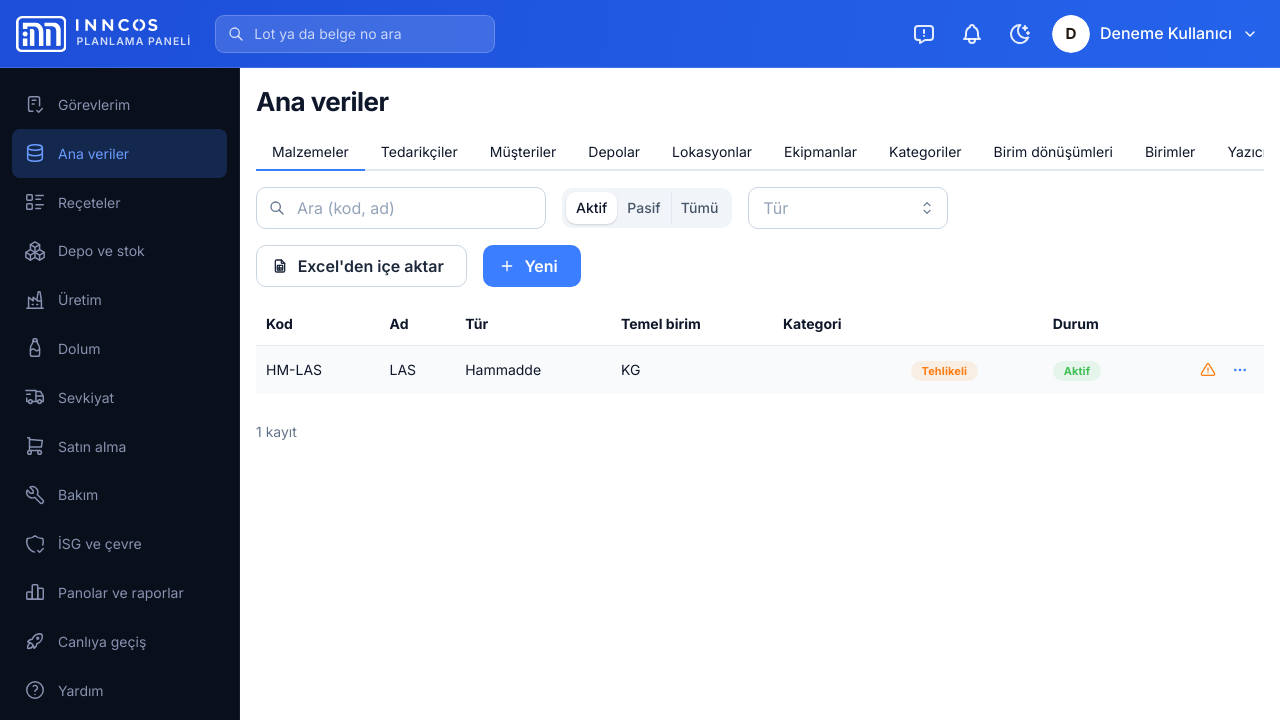
Test case: ana veriler ekranı › form alan hatalarını alanın altında gösterir
Click the button "Yeni": {"x": 532, "y": 266} [483,245,581,287]
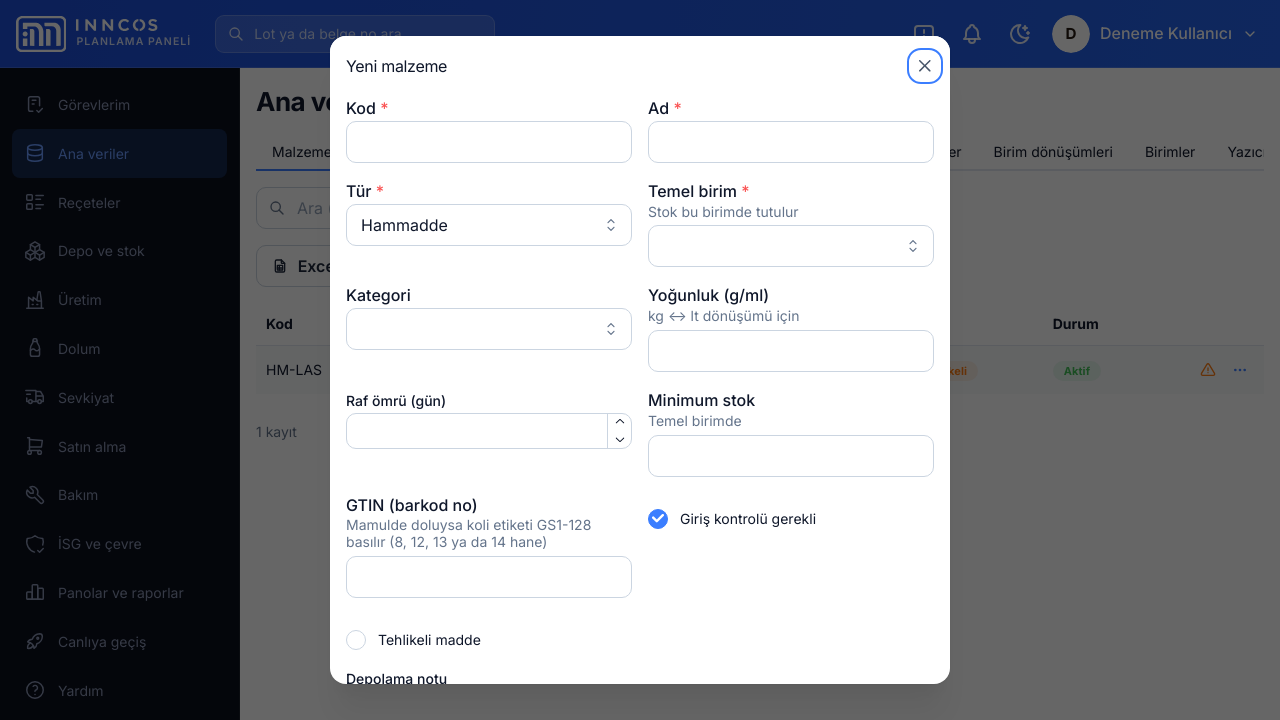
In the field labelled "Kod *": {"x": 489, "y": 142} [346,121,632,163], type "hm-las"
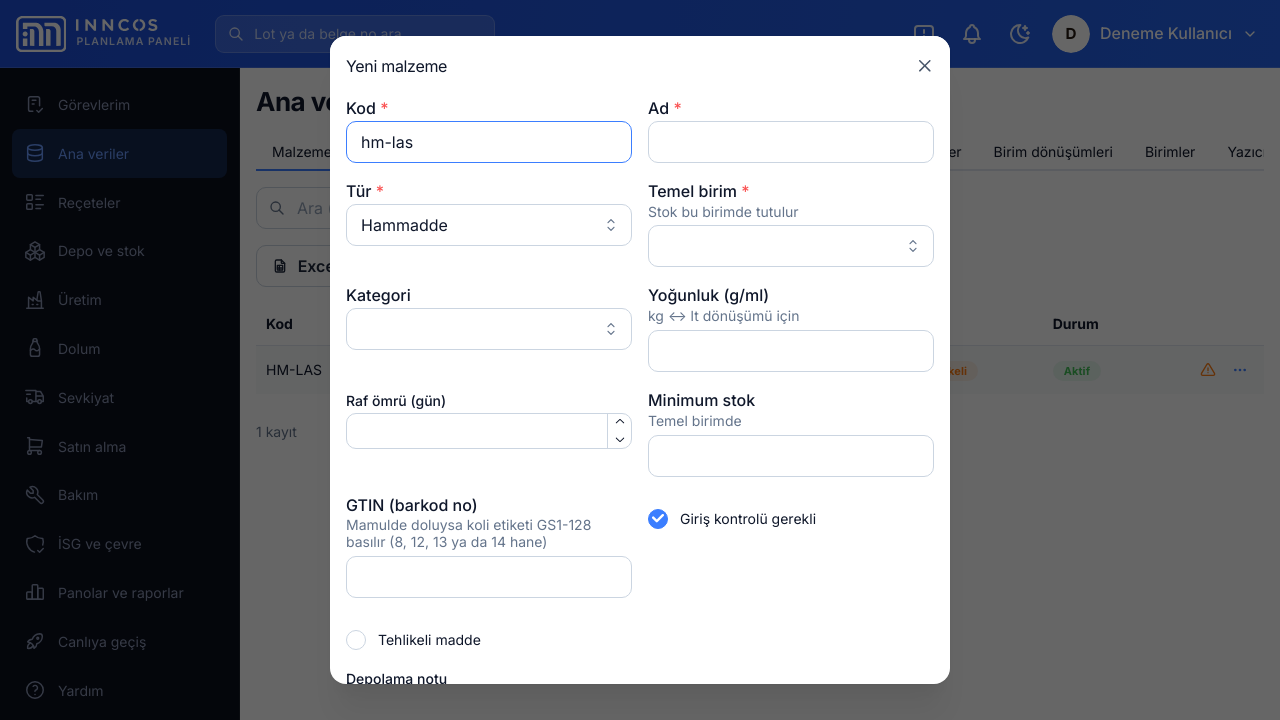
In the field labelled "Ad *": {"x": 791, "y": 142} [648,121,934,163], type "LAS"
(page scrolled)
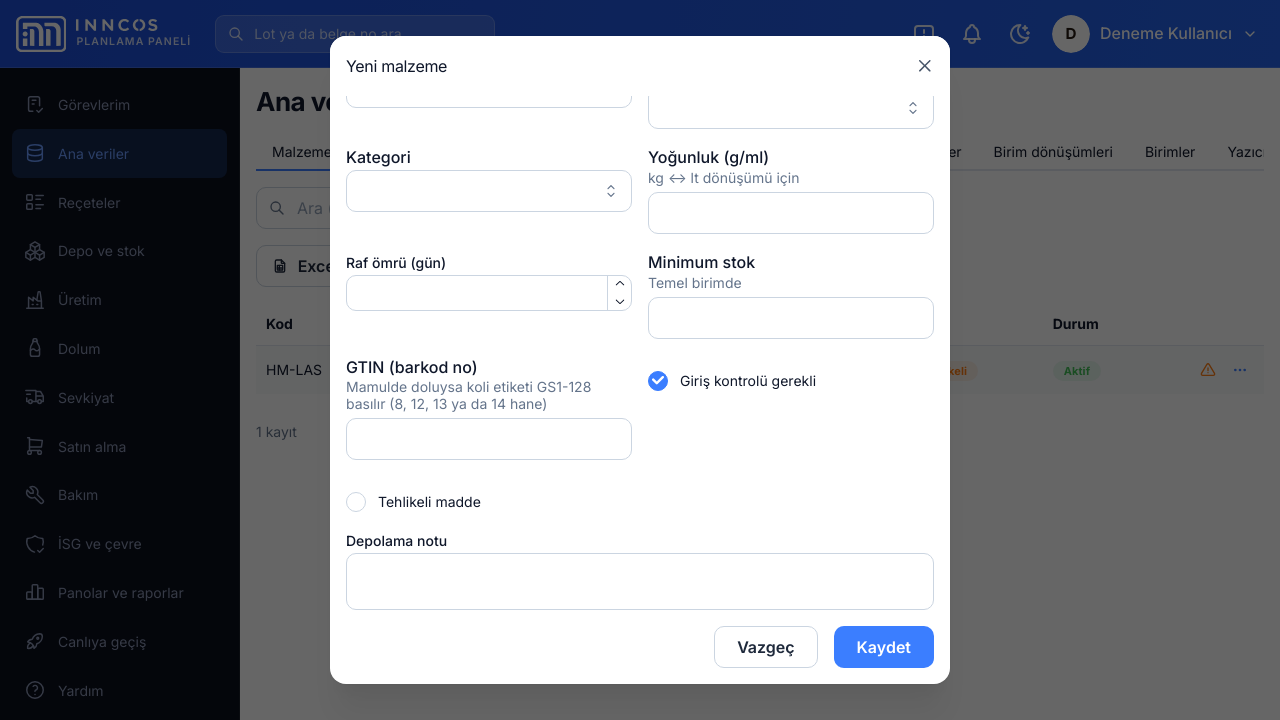
Click the button "Kaydet": {"x": 884, "y": 647} [834,626,934,668]
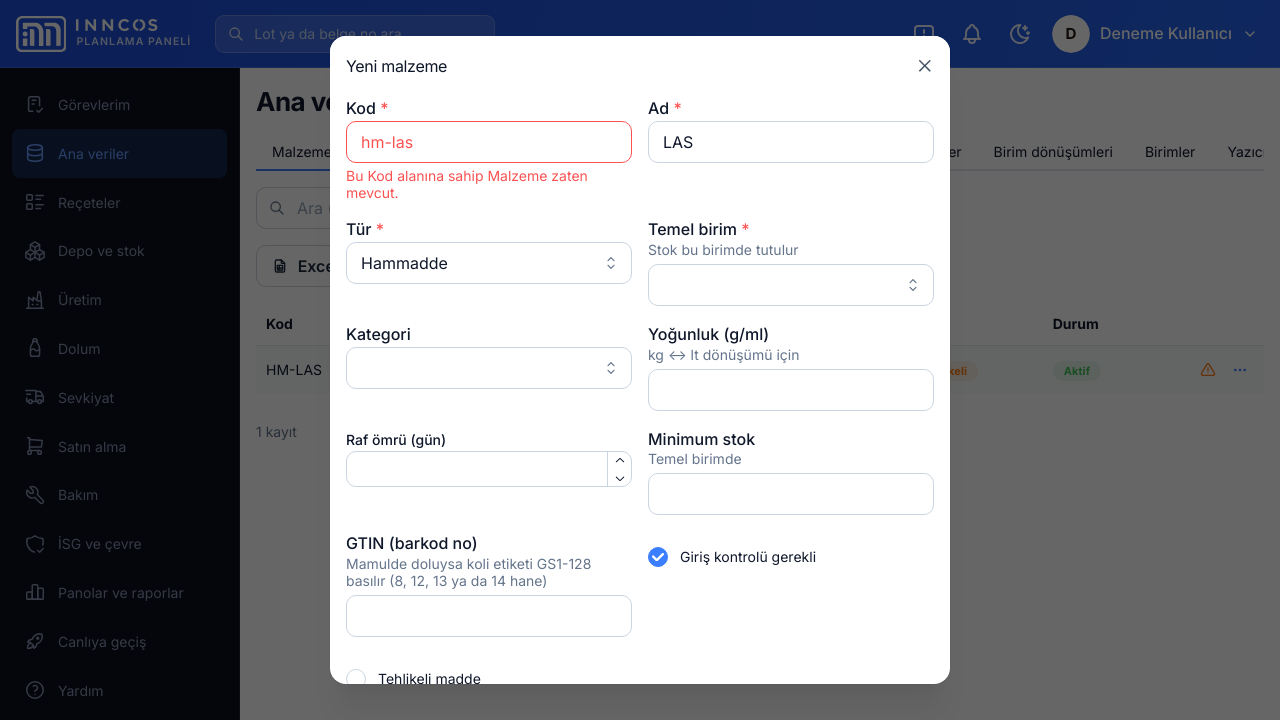
Check: the text "Bu Kod alanına sahip Malzeme zaten mevcut." is shown, box [346,167,588,201]
